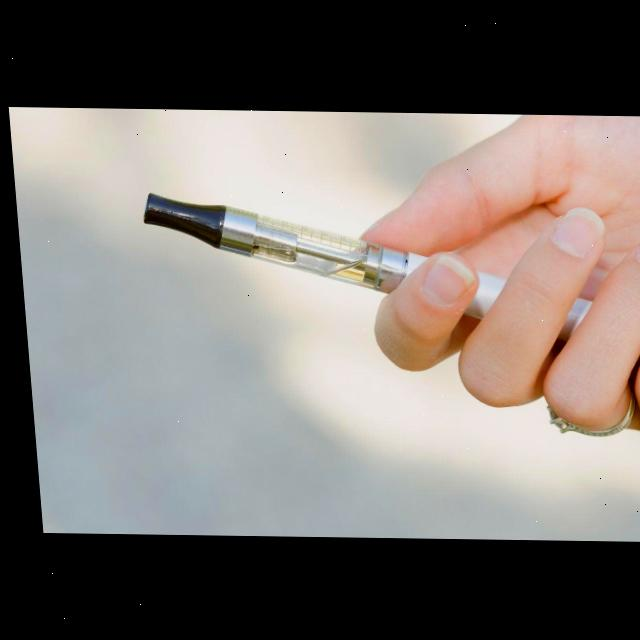vape: (137, 191, 503, 318)
